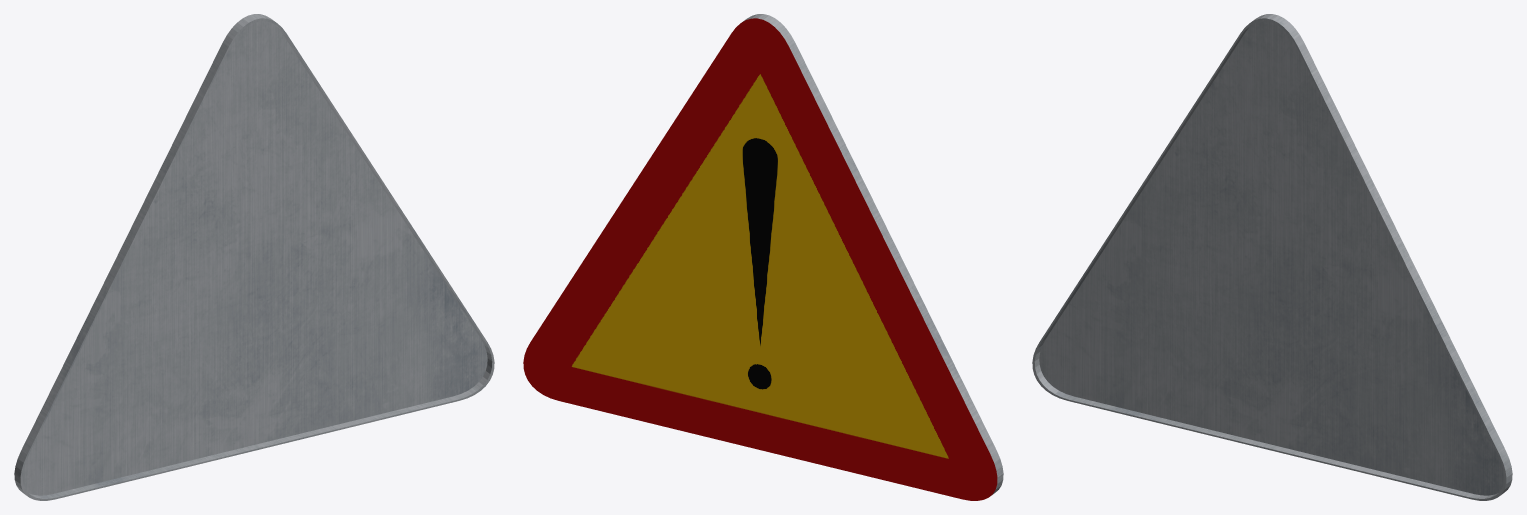
Rendered from Caution_v2.fbx.
3 renders of one model, left to right at view 1: azimuth 30°, elevation 25°; view 2: azimuth 150°, elevation 25°; view 3: azimuth 330°, elevation 25°, orthographic.
Parts seen in each view (by area): view 1: Caution v2; view 2: Caution v2; view 3: Caution v2.
Part boxes in pixels (bbox=[...]): Caution v2: bbox=[14, 14, 494, 500]; Caution v2: bbox=[523, 14, 1003, 500]; Caution v2: bbox=[1032, 14, 1512, 500].
Size of the model in its own units: 0.02 by 0.9002 by 0.7821.
